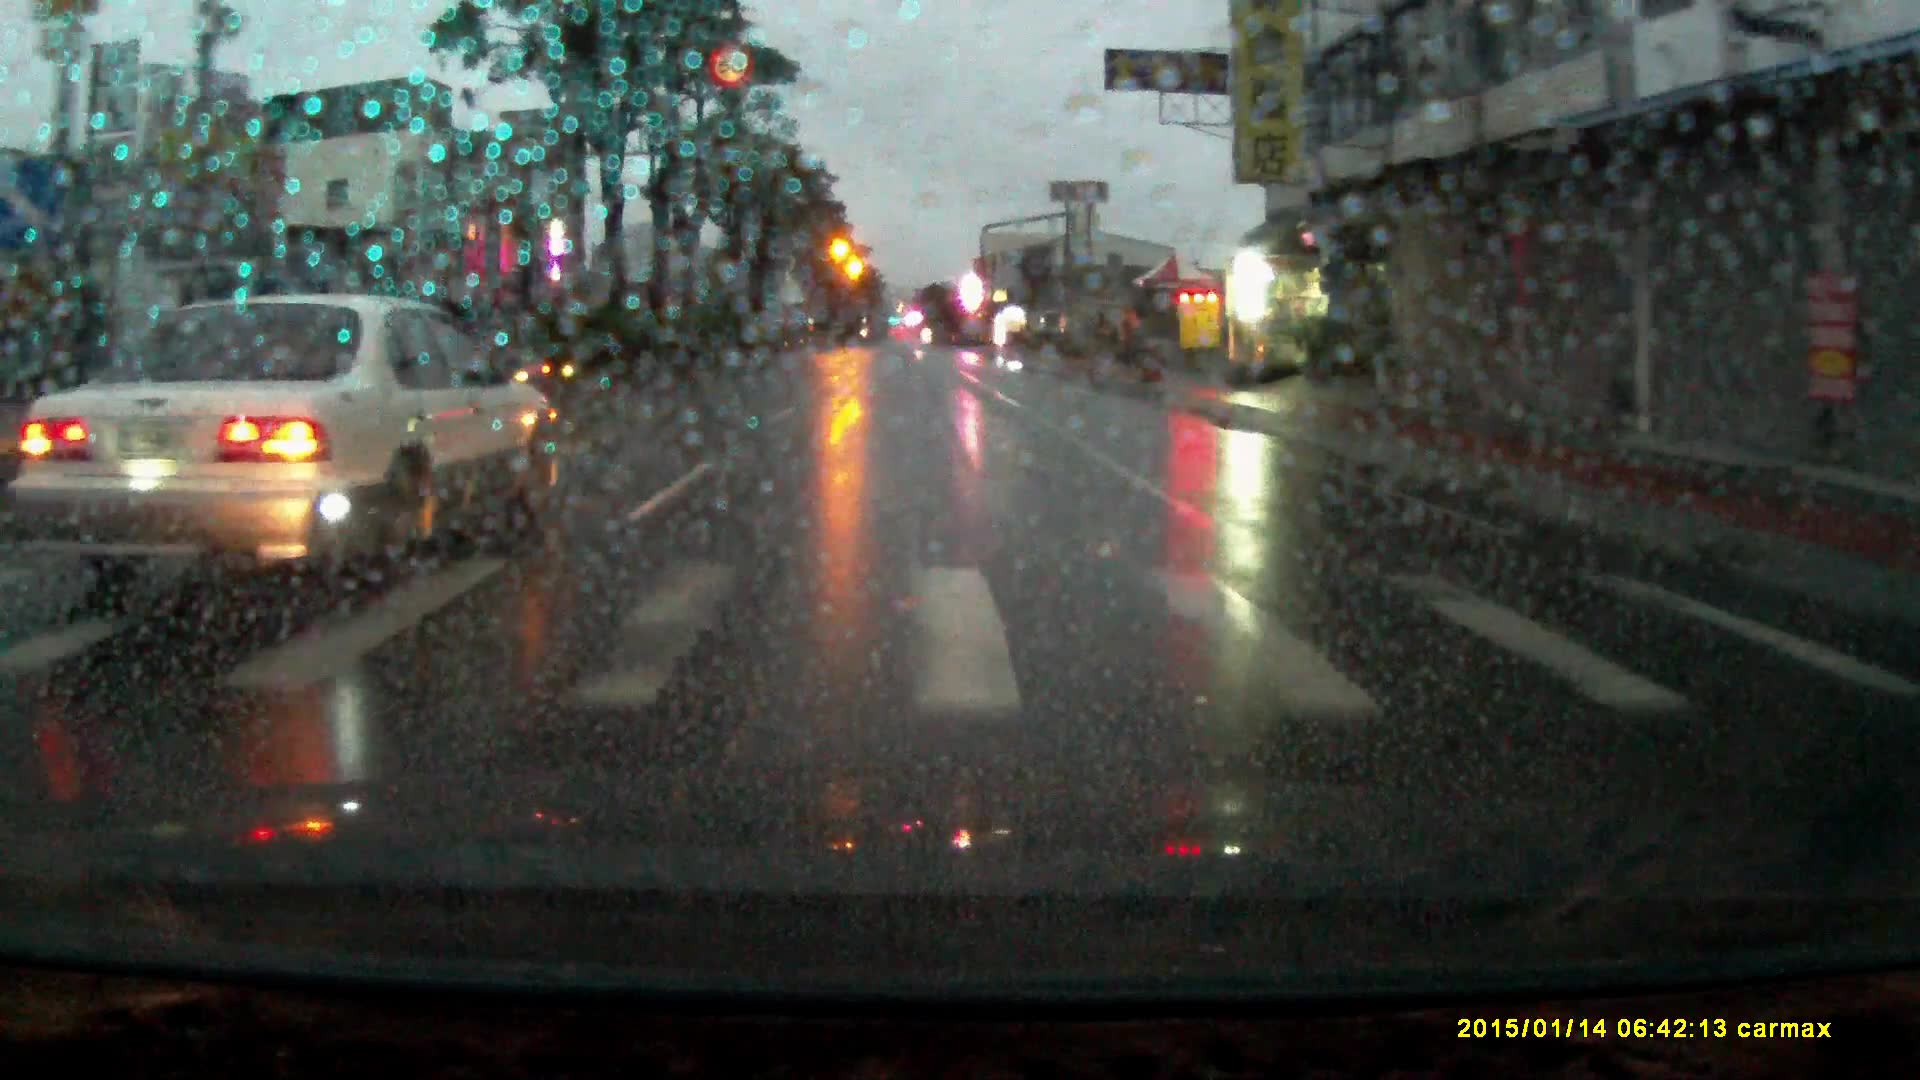vehicle: (22, 281, 549, 592)
